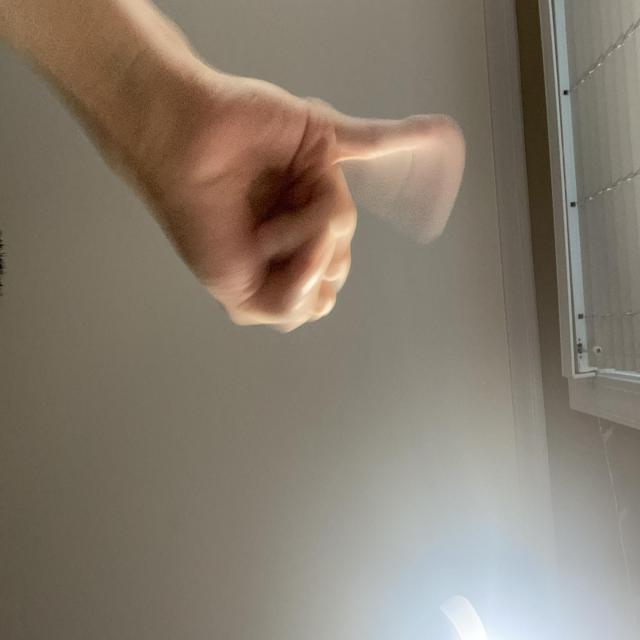J: (194, 225, 416, 640)
